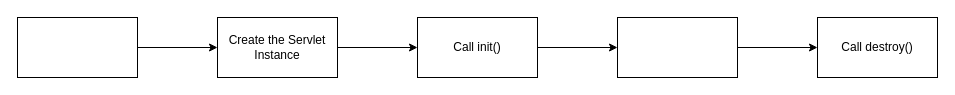
Some shapes in this 955 by 95 pixel diagram are drawn without their labels. Each missing label, with the centre of its shape:
"Call service()" goes at point 677,47.
"Load the Servlet Class" goes at point 77,47.
